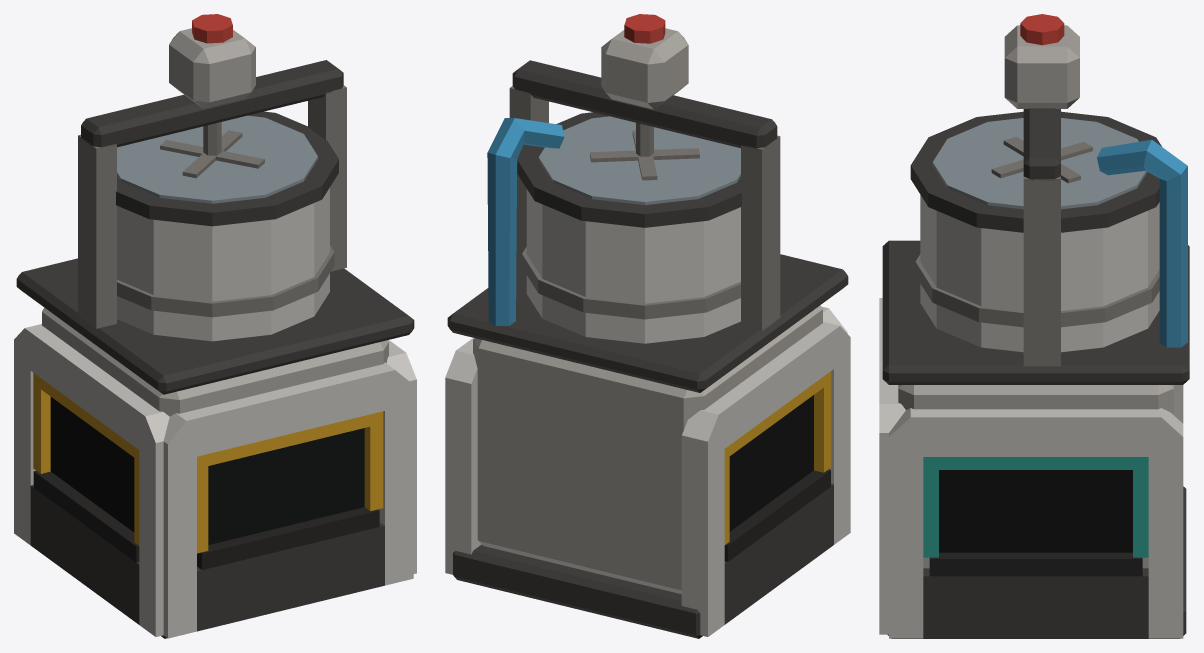
Rendered from mixer.fbx.
3 views of the same model, side by side, from view 1: azimuth 30°, elevation 25°; view 2: azimuth 150°, elevation 25°; view 3: azimuth 270°, elevation 25° (orthographic). The views are drawn at different scales.
Visible parts, largest first — view 1: mixer; view 2: mixer; view 3: mixer.
Part boxes in pixels (x1,y1,x2,y2): mixer: (14, 14, 416, 638); mixer: (445, 14, 850, 638); mixer: (879, 14, 1189, 638).
Bounding box in the file's own units: 3 × 5.87 × 2.97.
